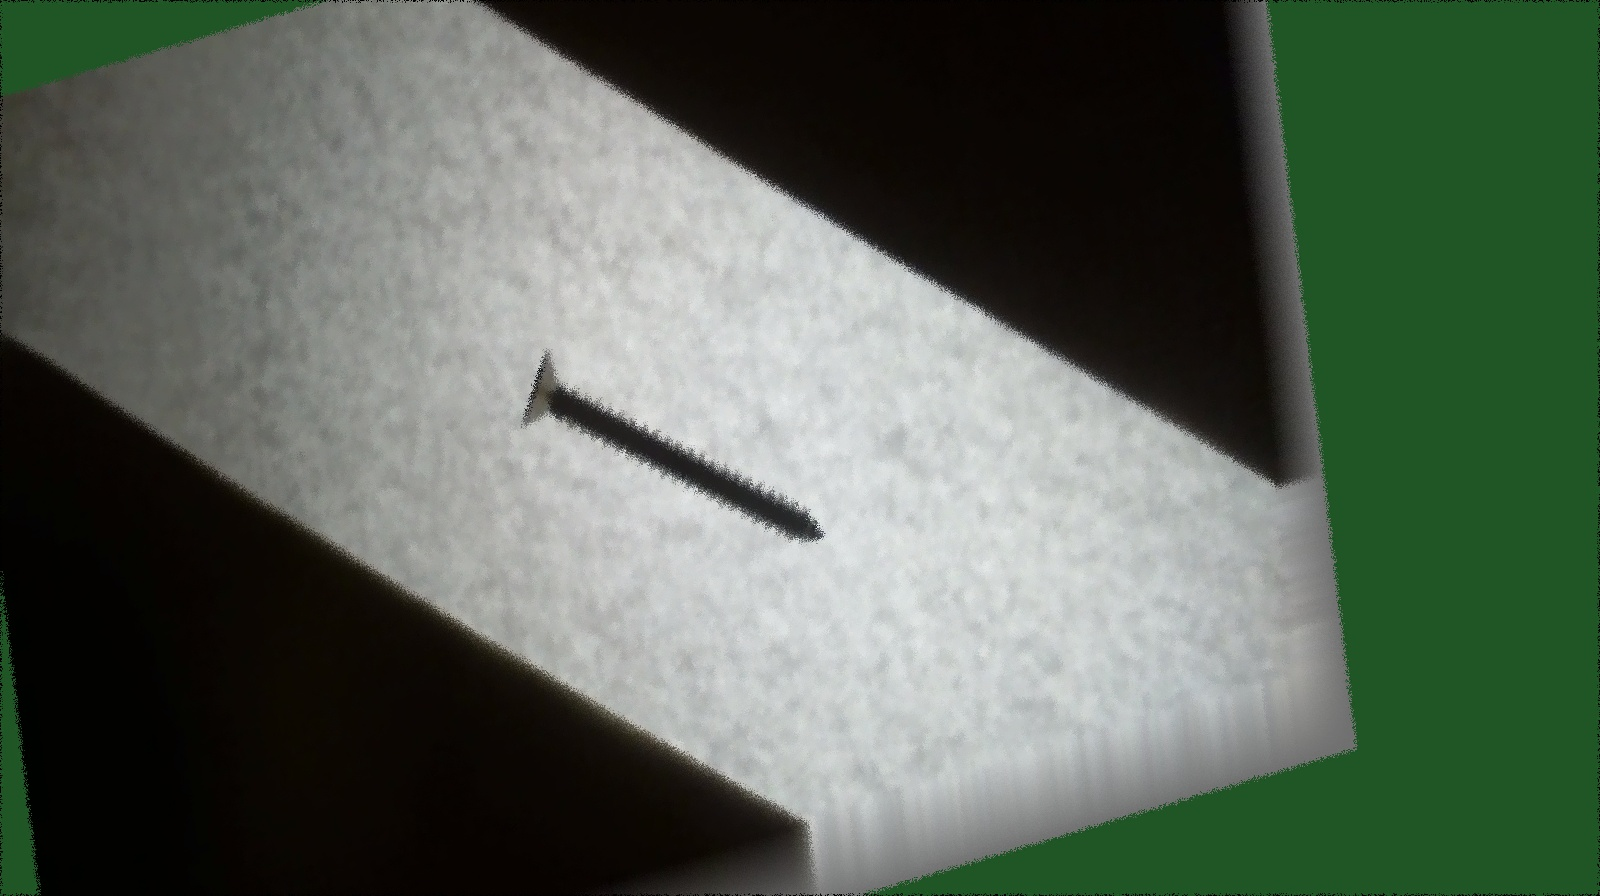S002: (500, 262, 834, 639)
